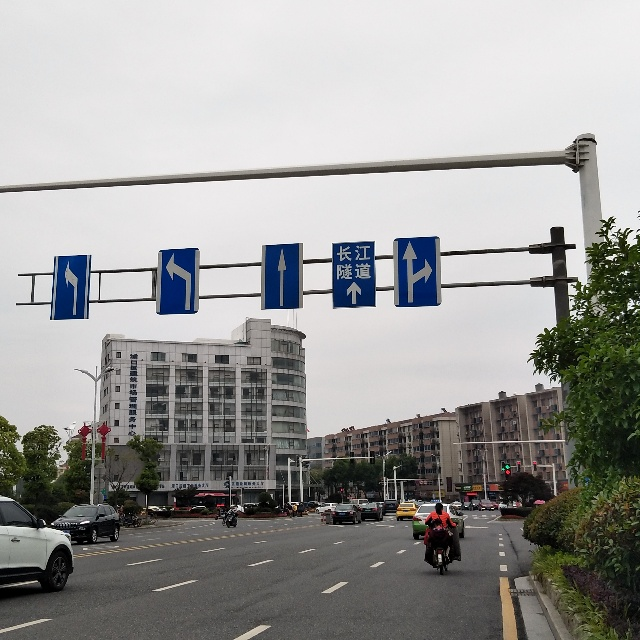left: (156, 248, 197, 320), (51, 257, 90, 321)
straight: (262, 242, 301, 309)
